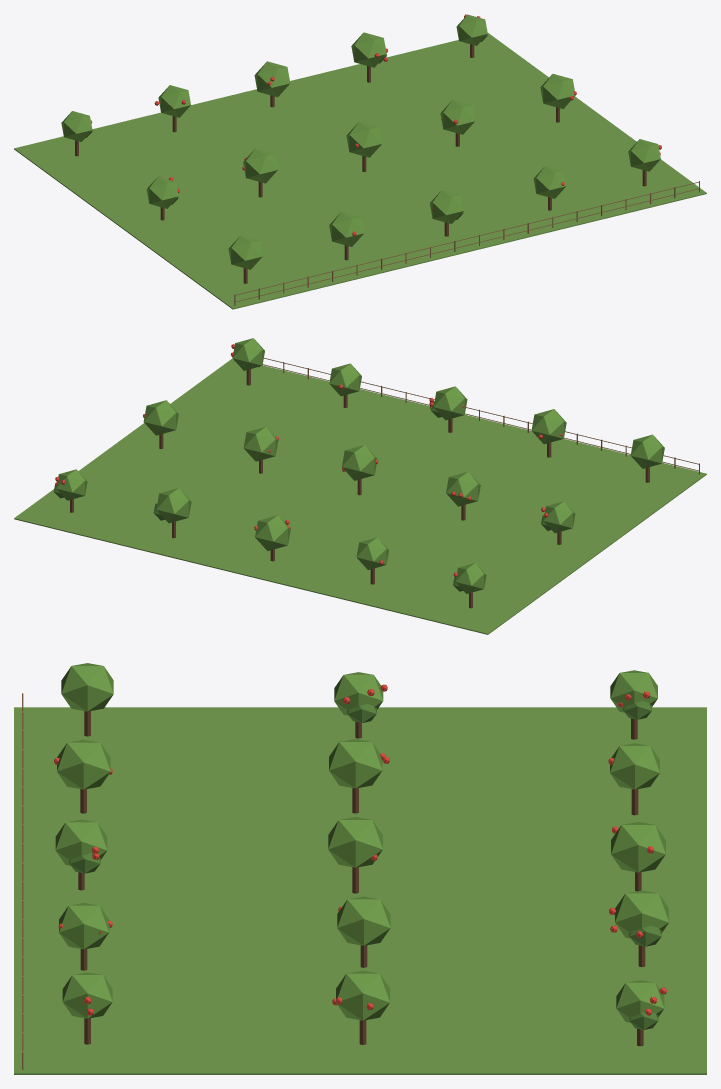
The model's file is Kir_alan_meyve_2_Hafif.fbx.
3 views of the same model, one above another, from view 1: azimuth 30°, elevation 25°; view 2: azimuth 150°, elevation 25°; view 3: azimuth 270°, elevation 25° (orthographic). The views are drawn at different scales.
Parts seen in each view (by area): view 1: Kir_alan_meyve_2_Hafif; view 2: Kir_alan_meyve_2_Hafif; view 3: Kir_alan_meyve_2_Hafif.
Part boxes in pixels (x1,y1,x2,y2): Kir_alan_meyve_2_Hafif: (14,14,706,309); Kir_alan_meyve_2_Hafif: (14,338,706,634); Kir_alan_meyve_2_Hafif: (14,663,706,1074).
Size of the model in its own units: 50 by 4.7 by 40.
